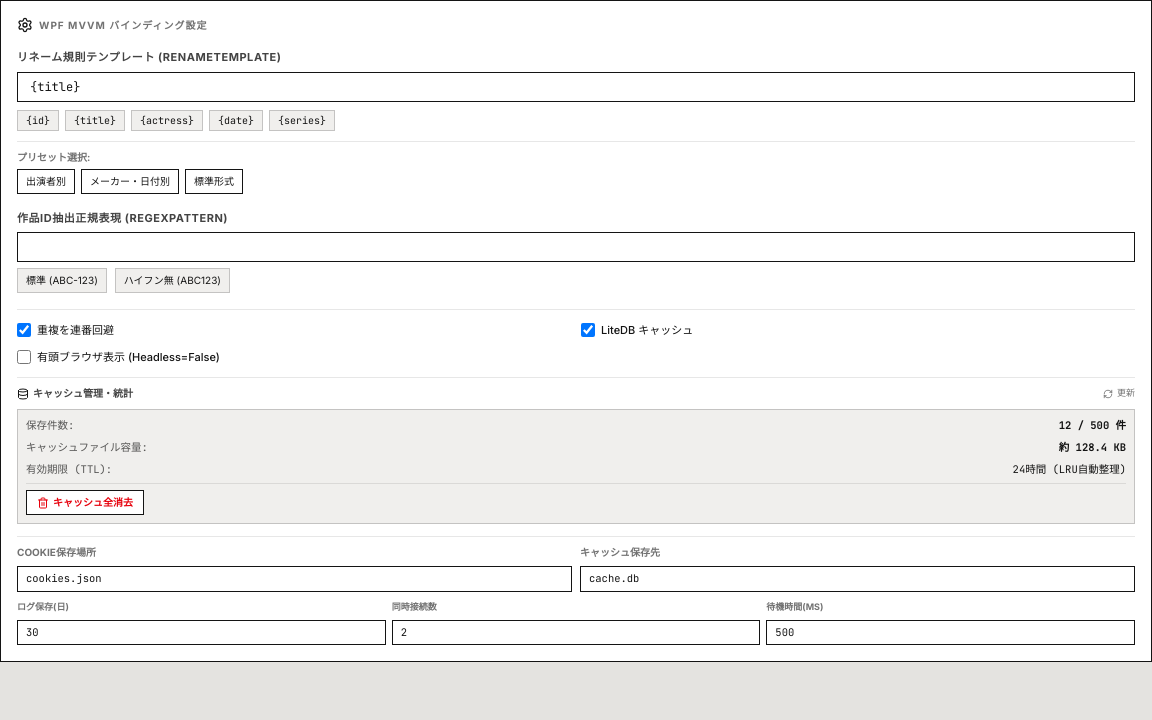
Test case: SettingsPanel Component › クライアントキャッシュの永続化消去に失敗した場合は成功表示しない
expect the text "約 128.4 KB" is shown: met, box 1059,440 -> 1126,456
Click the button "キャッシュ全消去" at (85, 503), box 26,490 -> 144,515
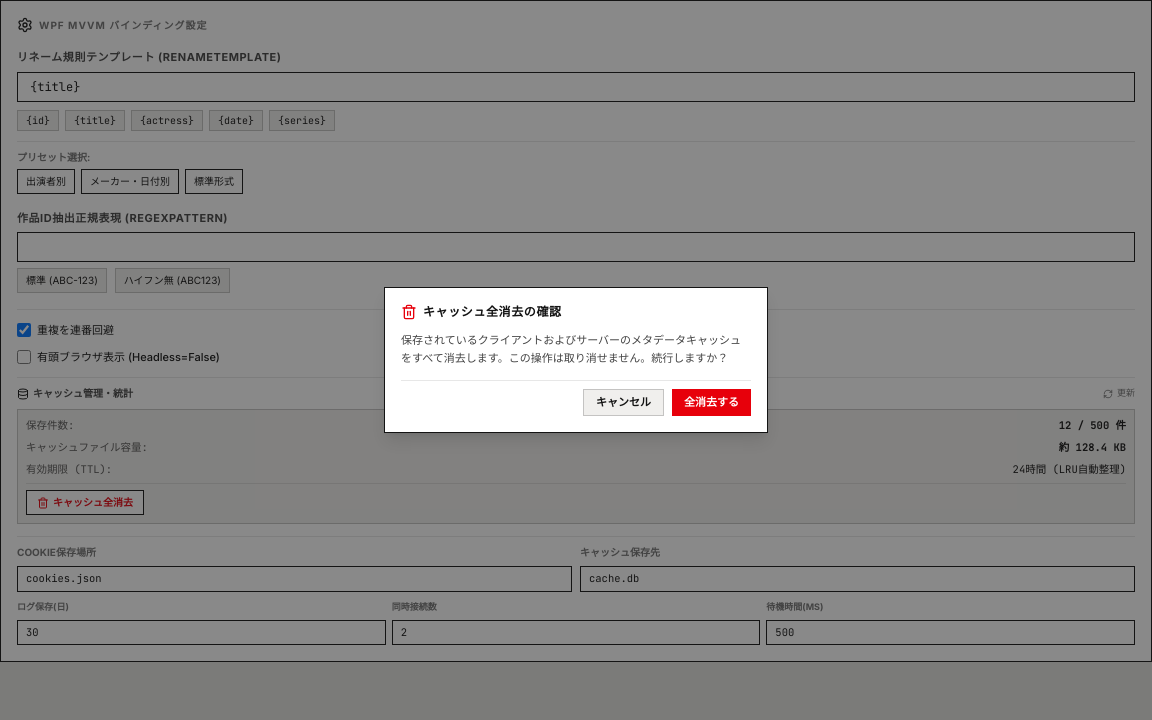
Click the button "全消去する" at (712, 402), box 672,389 -> 751,416
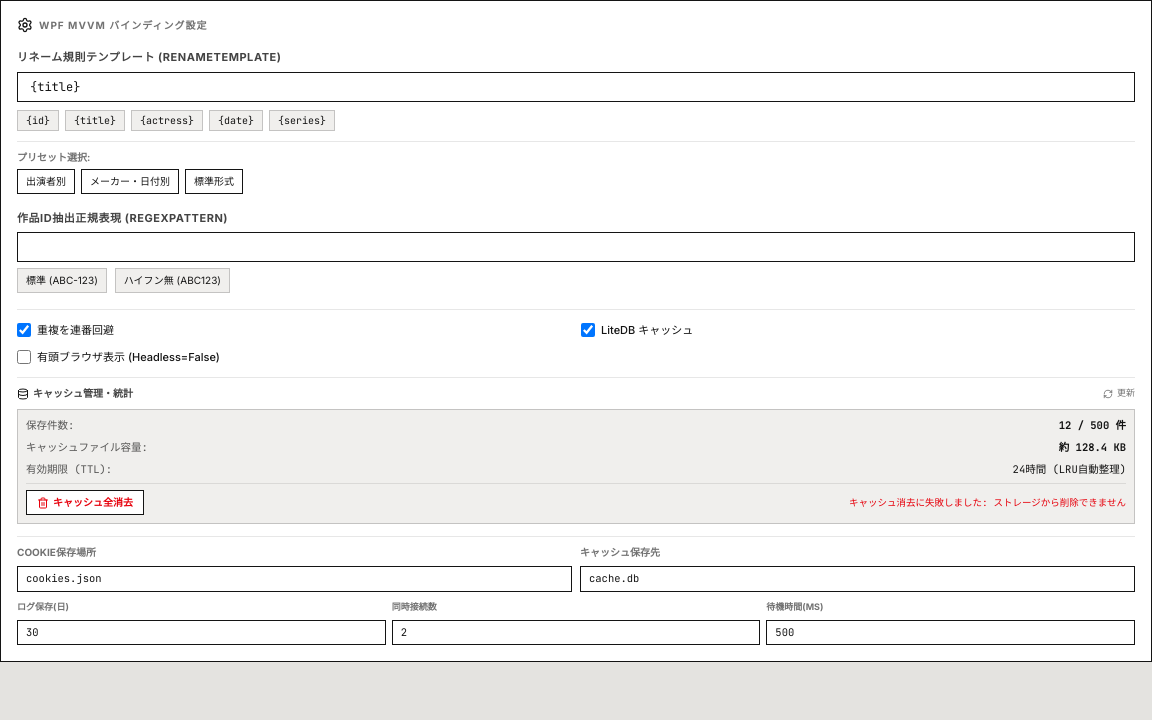
expect the text "キャッシュ消去に失敗しました: ストレージから削除できません" is shown: met, box 849,496 -> 1126,510
